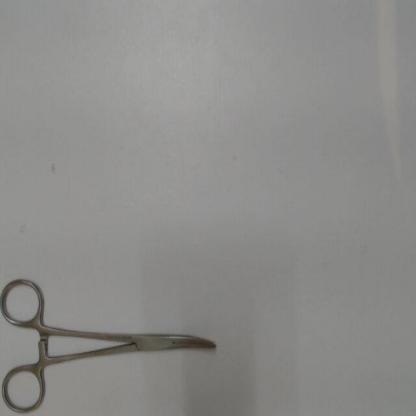Crile Artery Forceps: (0, 266, 226, 414)
